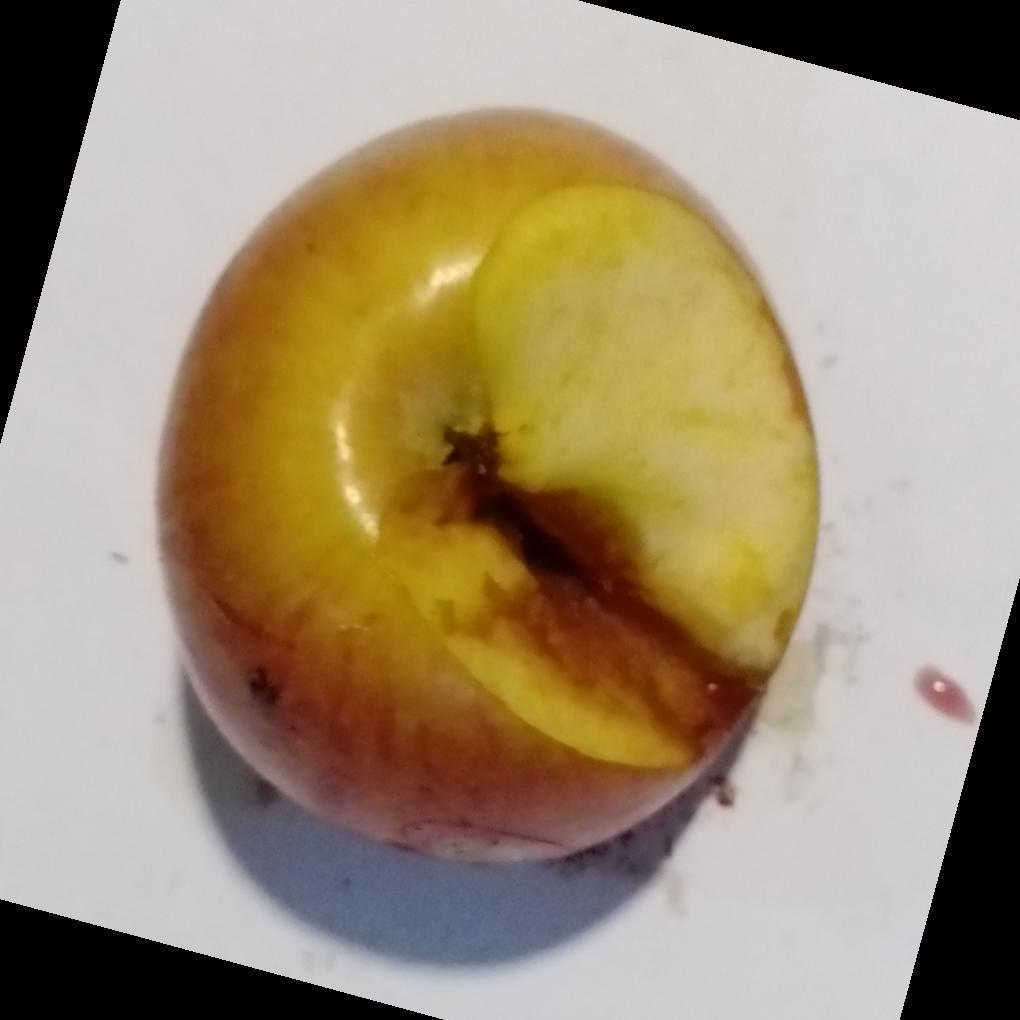FreshOrange: (155, 109, 821, 870)
